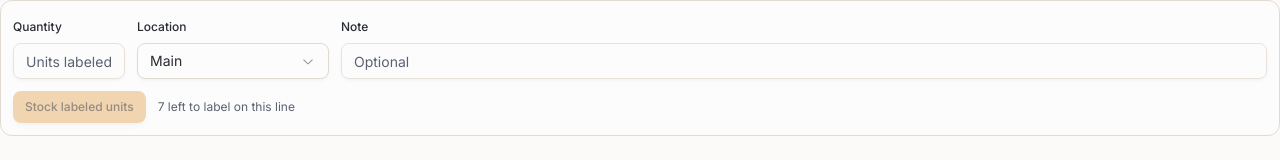
Test: the quantity field › names the TYPED quantity on the button
Type "12" into the field labelled "Quantity". click: (69, 61)
box: [13,43,125,79]
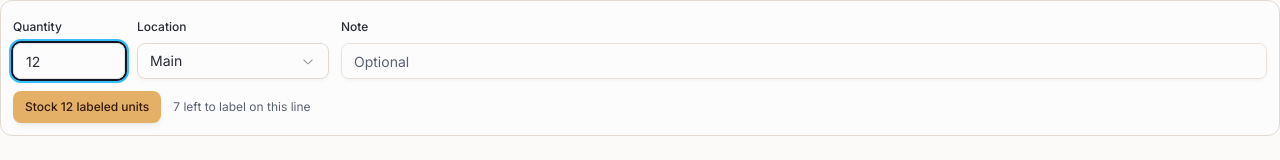
Result: the button "Stock 12 labeled units" is enabled at [13,91,161,123]
